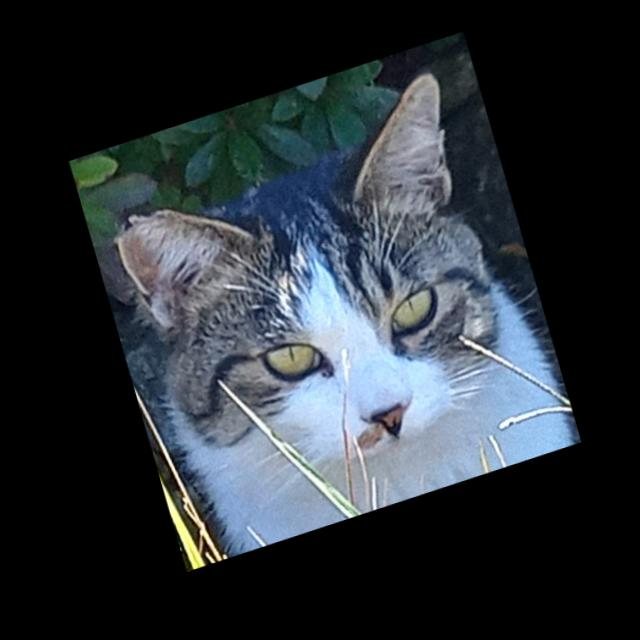animals: (91, 54, 541, 527)
